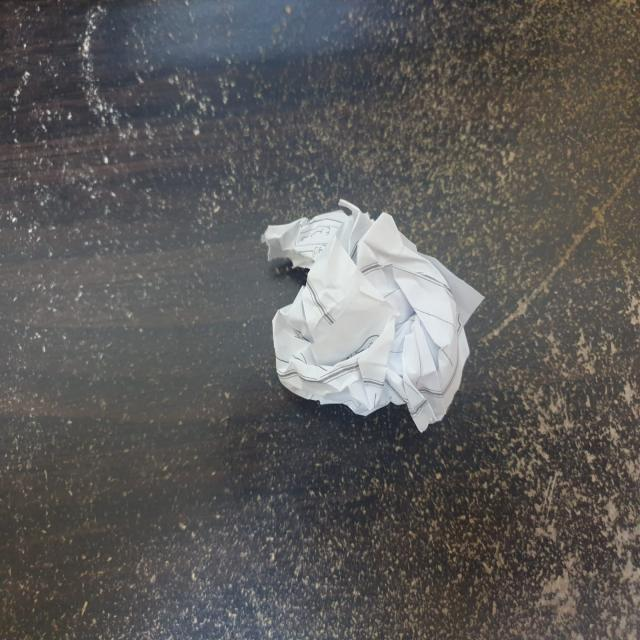Paper: (267, 213, 487, 434)
